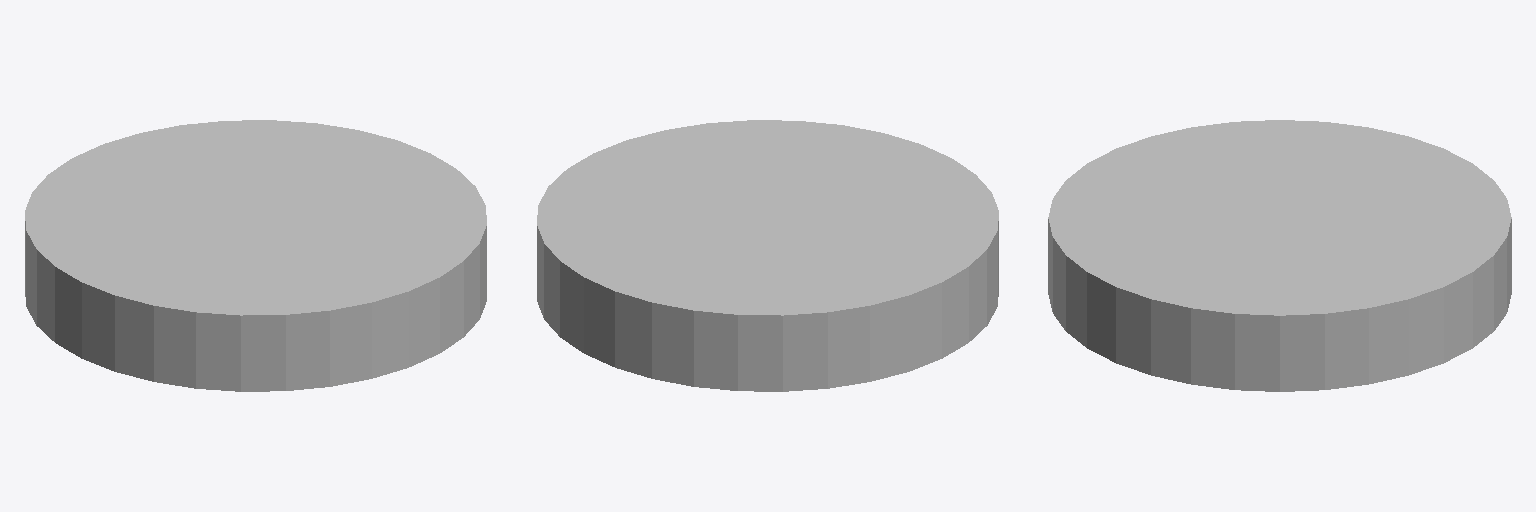
Rendered from PortalDoor_Frame.obj.
3 renders of one model, left to right at view 1: azimuth 30°, elevation 25°; view 2: azimuth 150°, elevation 25°; view 3: azimuth 270°, elevation 25°, orthographic.
Parts seen in each view (by area): view 1: Cylinder; view 2: Cylinder; view 3: Cylinder.
Boxes of the visible parts, x1=… form: Cylinder: x1=25, y1=120, x2=486, y2=391; Cylinder: x1=537, y1=120, x2=998, y2=391; Cylinder: x1=1048, y1=120, x2=1511, y2=391.
Size of the model in its own units: 2.2 by 0.4 by 2.2.